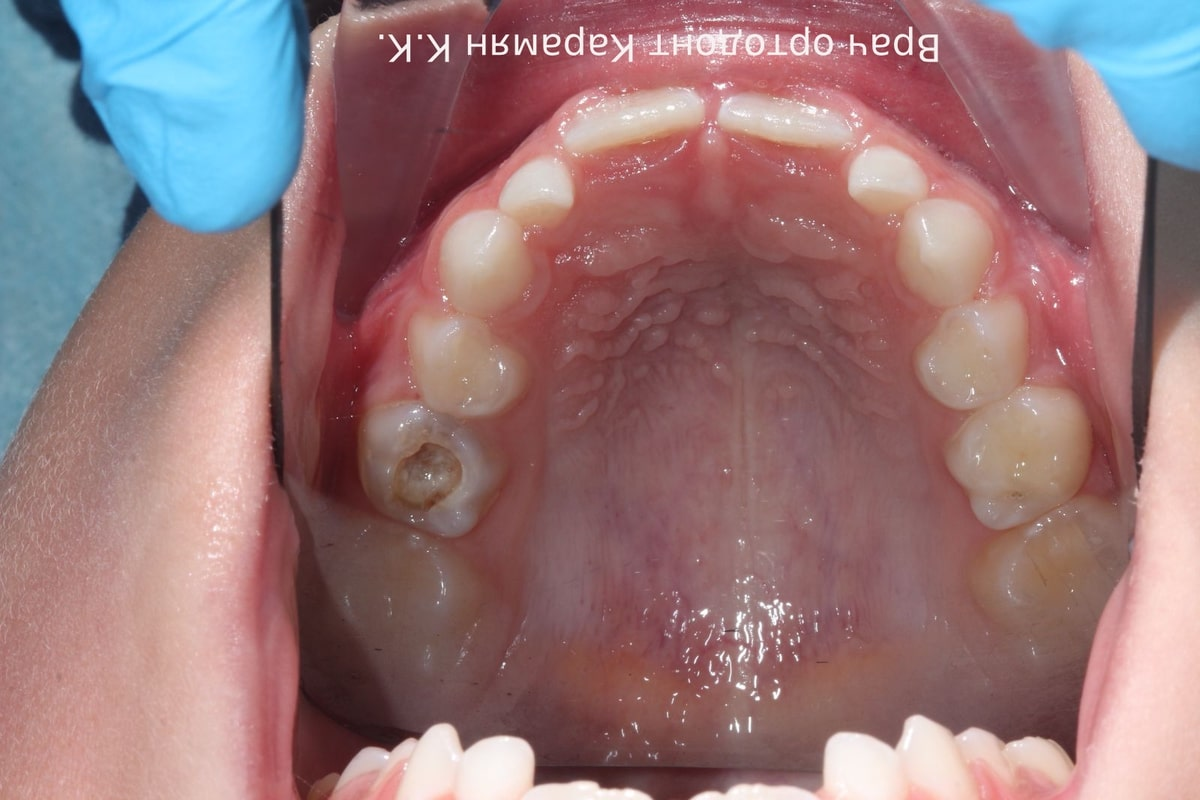UL1BC_healthy: (906, 298, 1037, 416)
UL2BC_decay: (943, 389, 1091, 534)
ULCI_healthy: (721, 82, 851, 172)
ULC_healthy: (891, 201, 987, 310)
ULLI_healthy: (845, 138, 916, 208)
UR1BC_healthy: (412, 314, 531, 413)
UR2BC_decay: (348, 396, 508, 536)
URCI_healthy: (567, 71, 717, 171)
URC_healthy: (442, 208, 548, 321)
URLI_healthy: (497, 154, 580, 223)
